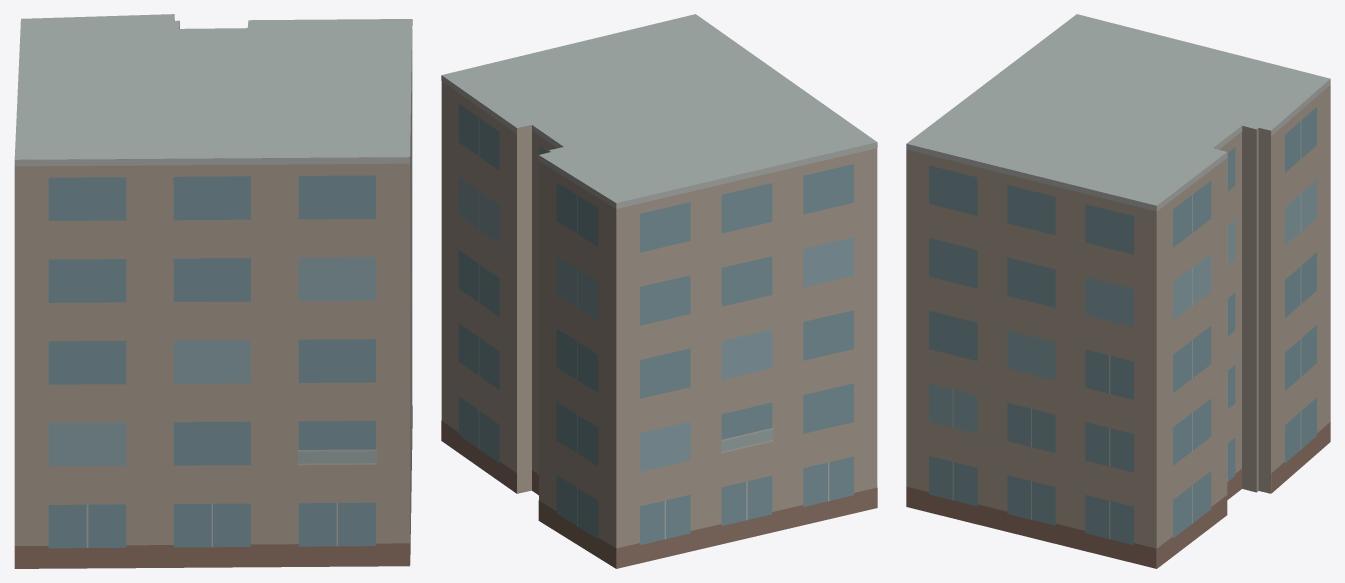
The model's file is survey-upis-32686174.glb.
The picture shows the model from 3 angles, left to right: view 1: azimuth 30°, elevation 25°; view 2: azimuth 150°, elevation 25°; view 3: azimuth 270°, elevation 25°; orthographic projection. The views are drawn at different scales.
Visible parts, largest first — view 1: survey-upis-32686174.tmp; view 2: survey-upis-32686174.tmp; view 3: survey-upis-32686174.tmp.
Part boxes in pixels (x1,y1,x2,y2): survey-upis-32686174.tmp: [14, 14, 412, 568]; survey-upis-32686174.tmp: [441, 14, 877, 568]; survey-upis-32686174.tmp: [906, 14, 1330, 568].
Bounding box in the file's own units: 17.28 × 15.25 × 16.16.
